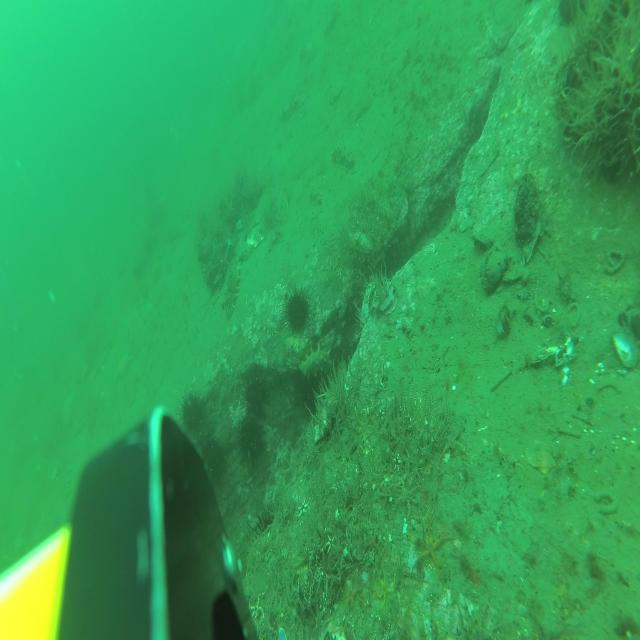echinus: (254, 497, 284, 551), (238, 417, 268, 470), (297, 369, 324, 422), (284, 285, 312, 335), (242, 372, 268, 424), (178, 389, 205, 436), (205, 437, 227, 479)
holothurian: (302, 342, 336, 378), (224, 256, 242, 324), (331, 146, 355, 170), (280, 94, 300, 121), (323, 6, 339, 38), (299, 43, 314, 65), (309, 188, 323, 208)
scallop: (528, 437, 557, 477), (246, 221, 266, 248), (329, 78, 343, 103)
starfish: (418, 520, 453, 570), (376, 572, 396, 608), (343, 580, 361, 616)
